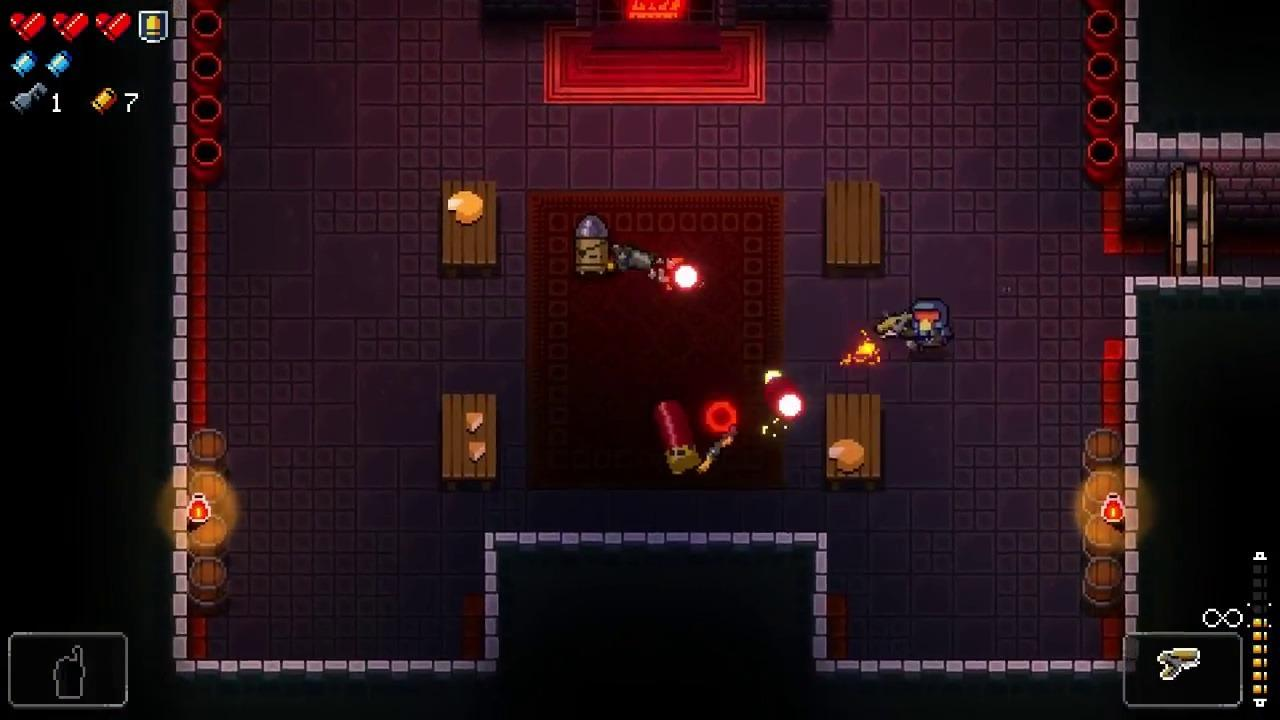bullet: (776, 392, 805, 422), (673, 263, 700, 291)
locked_door: (1169, 163, 1217, 278)
player: (911, 298, 951, 351)
red_shotgun_kin: (652, 398, 703, 477)
table: (824, 180, 884, 275), (441, 182, 497, 279), (442, 393, 497, 491), (826, 394, 882, 490)
veteran_bullet_kin: (574, 213, 608, 276)
